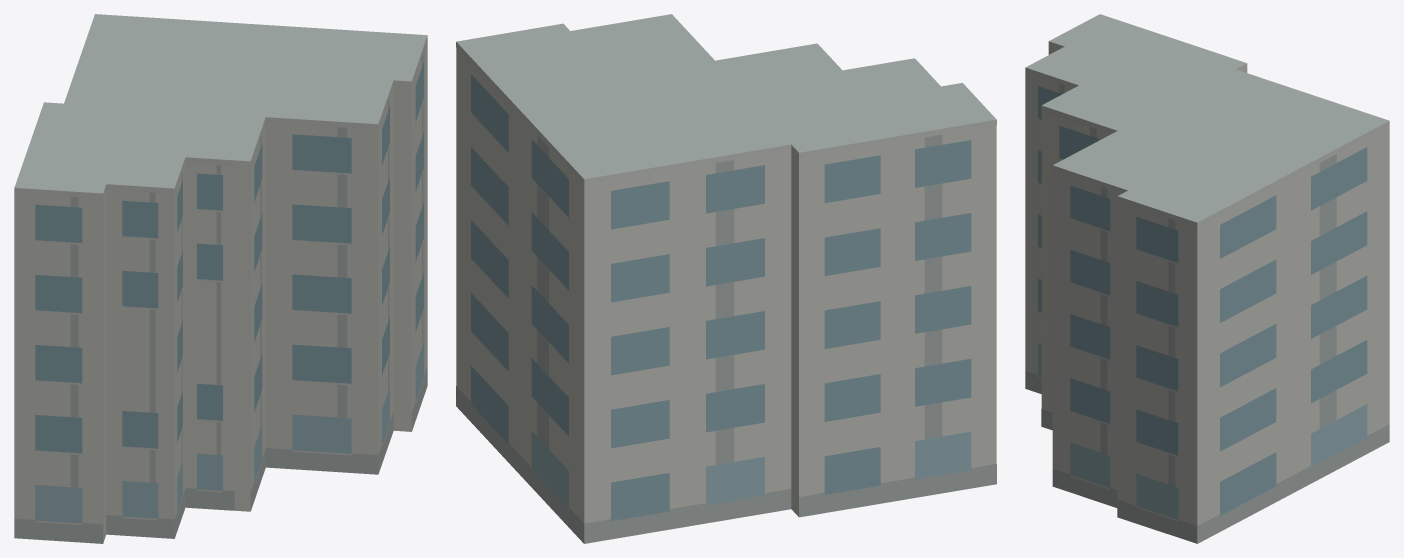
File: survey-upis-32772472.glb
The picture shows the model from 3 angles, left to right: view 1: azimuth 30°, elevation 25°; view 2: azimuth 150°, elevation 25°; view 3: azimuth 270°, elevation 25°; orthographic projection. The views are drawn at different scales.
Parts seen in each view (by area): view 1: survey-upis-32772472.tmp; view 2: survey-upis-32772472.tmp; view 3: survey-upis-32772472.tmp.
Boxes of the visible parts, bbox=[...] form: survey-upis-32772472.tmp: bbox=[14, 14, 427, 543]; survey-upis-32772472.tmp: bbox=[456, 14, 996, 543]; survey-upis-32772472.tmp: bbox=[1025, 14, 1389, 543].
Size of the model in its own units: 21.46 by 15.4 by 15.84.
